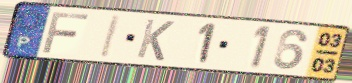1: (250, 25, 272, 71), (196, 22, 217, 66)
6: (272, 29, 310, 72)
F: (40, 11, 91, 55)
I: (98, 14, 124, 60)
K: (134, 17, 177, 63)
